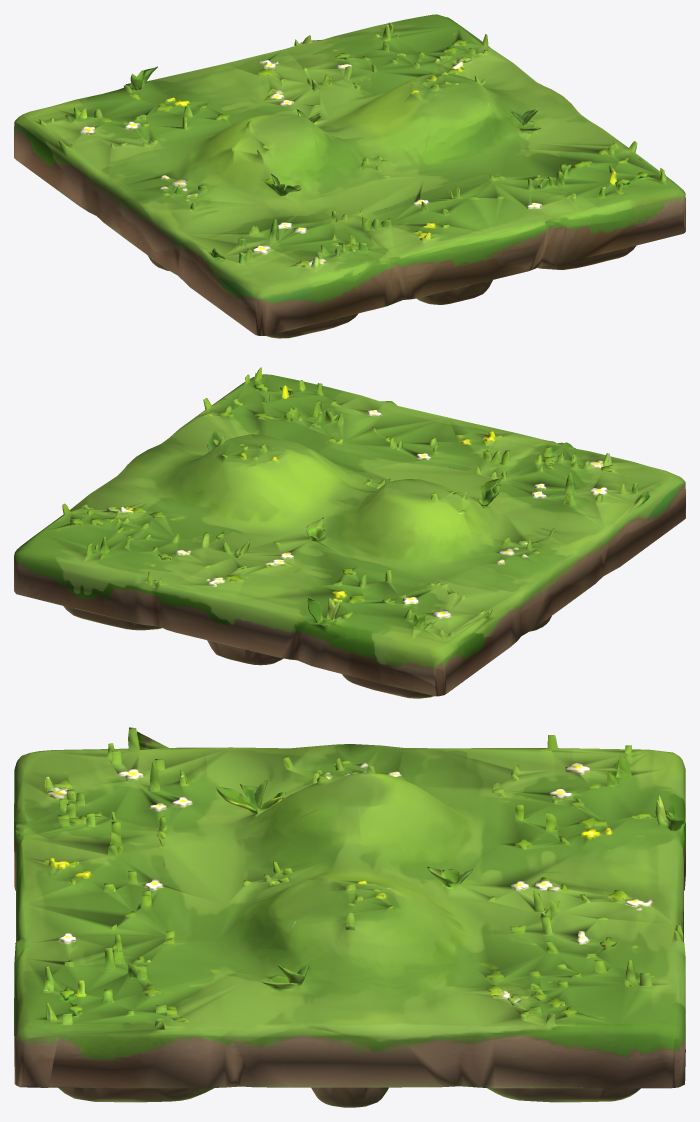
Rendered from grass-patch.glb.
The picture shows the model from 3 angles, top to bottom: view 1: azimuth 30°, elevation 25°; view 2: azimuth 150°, elevation 25°; view 3: azimuth 270°, elevation 25°; orthographic projection. The views are drawn at different scales.
Parts seen in each view (by area): view 1: Mesh1.0; view 2: Mesh1.0; view 3: Mesh1.0.
Part boxes in pixels (<box>): Mesh1.0: <box>14,14,685,338</box>; Mesh1.0: <box>14,367,685,698</box>; Mesh1.0: <box>14,727,685,1107</box>.
Size of the model in its own units: 1.89 by 0.48 by 1.88.
Materials: 1 (1 with a texture image).
